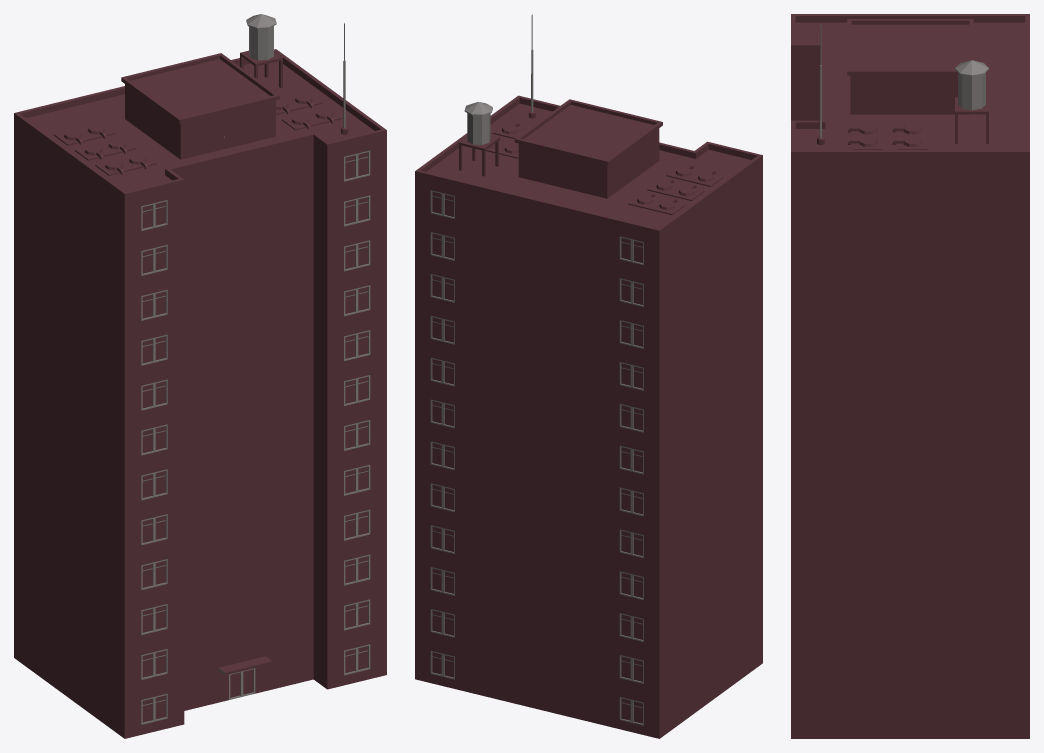
The model's file is building-office-big.fbx.
3 renders of one model, left to right at view 1: azimuth 30°, elevation 25°; view 2: azimuth 150°, elevation 25°; view 3: azimuth 270°, elevation 25°, orthographic. The views are drawn at different scales.
Parts seen in each view (by area): view 1: building-office-big; view 2: building-office-big; view 3: building-office-big.
Boxes of the visible parts, x1=… form: building-office-big: x1=14, y1=14, x2=386, y2=738; building-office-big: x1=415, y1=14, x2=762, y2=738; building-office-big: x1=791, y1=14, x2=1029, y2=738.
Size of the model in its own units: 22 by 52.08 by 16.1.
